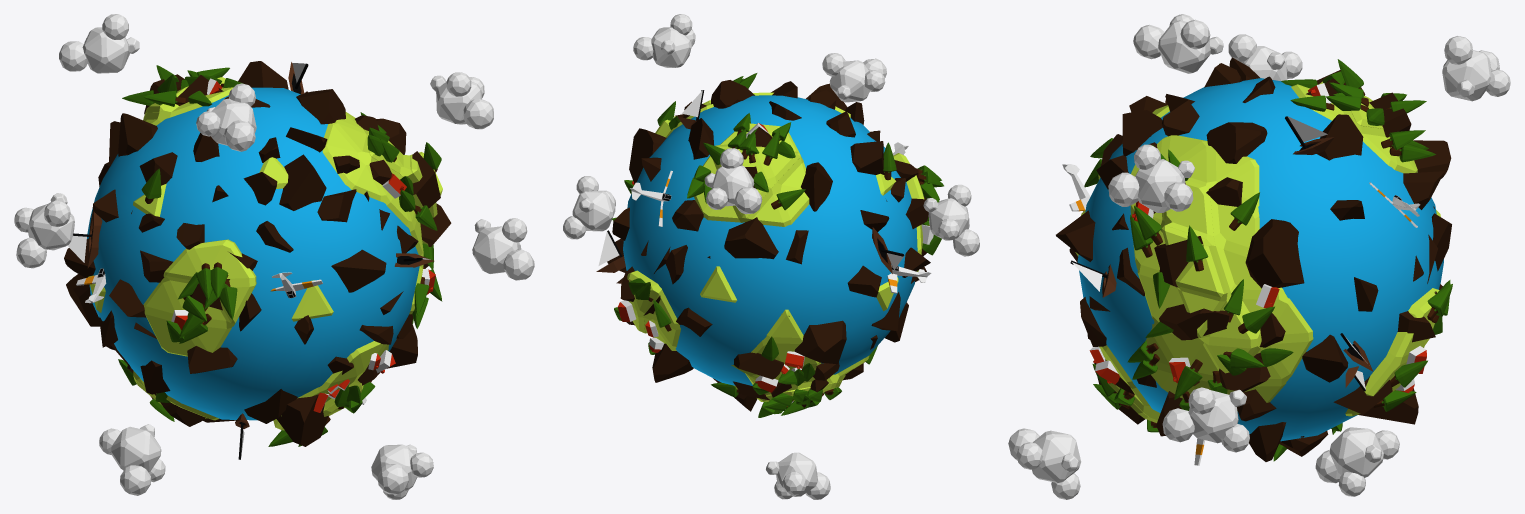
File: 3st_state_earth.fbx
The picture shows the model from 3 angles, left to right: view 1: azimuth 30°, elevation 25°; view 2: azimuth 150°, elevation 25°; view 3: azimuth 270°, elevation 25°; orthographic projection. The views are drawn at different scales.
Visible parts, largest first — view 1: woda, ziemia, Icosphere.002, Icosphere.001, Icosphere, Icosphere.003, Icosphere.006, Icosphere.004, Icosphere.005, ziemia_cell.102, ziemia_cell.014, ziemia_cell.115 (+21 smaller); view 2: woda, ziemia, Icosphere.001, Icosphere, Icosphere.006, Icosphere.004, Icosphere.003, Icosphere.002, ziemia_cell.189, ziemia_cell.180, ziemia_cell.094, ziemia_cell.118 (+17 smaller); view 3: woda, ziemia, Icosphere.004, Icosphere.003, Icosphere.002, Icosphere.005, Icosphere.006, Icosphere.001, ziemia_cell.086, Icosphere, ziemia_cell.151, ziemia_cell.181 (+33 smaller).
Boxes of the visible parts, x1,y1,x2,y2 form: woda: (87, 87, 419, 420); ziemia: (88, 77, 442, 430); Icosphere.002: (99, 424, 165, 495); Icosphere.001: (59, 14, 139, 73); Icosphere: (14, 193, 74, 268); Icosphere.003: (472, 218, 534, 280); Icosphere.006: (196, 83, 256, 151); Icosphere.004: (430, 72, 493, 129); Icosphere.005: (371, 444, 433, 499); ziemia_cell.102: (279, 154, 326, 210); ziemia_cell.014: (276, 394, 328, 446); ziemia_cell.115: (331, 249, 386, 292); woda: (623, 95, 917, 385); ziemia: (627, 92, 924, 401); Icosphere.001: (704, 148, 762, 214); Icosphere: (923, 184, 979, 256); Icosphere.006: (822, 53, 886, 102); Icosphere.004: (633, 14, 695, 67); Icosphere.003: (563, 176, 615, 239); Icosphere.002: (766, 452, 830, 499); ziemia_cell.189: (794, 320, 846, 363); ziemia_cell.180: (724, 217, 778, 259); ziemia_cell.094: (801, 162, 832, 211); ziemia_cell.118: (850, 141, 884, 174); woda: (1077, 78, 1443, 441); ziemia: (1075, 81, 1440, 422); Icosphere.004: (1108, 144, 1194, 212); Icosphere.003: (1162, 387, 1249, 452); Icosphere.002: (1315, 427, 1399, 496); Icosphere.005: (1008, 428, 1081, 499); Icosphere.006: (1133, 14, 1223, 73); Icosphere.001: (1442, 36, 1510, 101); ziemia_cell.086: (1245, 219, 1304, 288); Icosphere: (1228, 34, 1302, 80); ziemia_cell.151: (1206, 122, 1267, 163); ziemia_cell.181: (1159, 304, 1229, 340).
Size of the model in its own units: 5.97 by 5.3 by 4.98.
